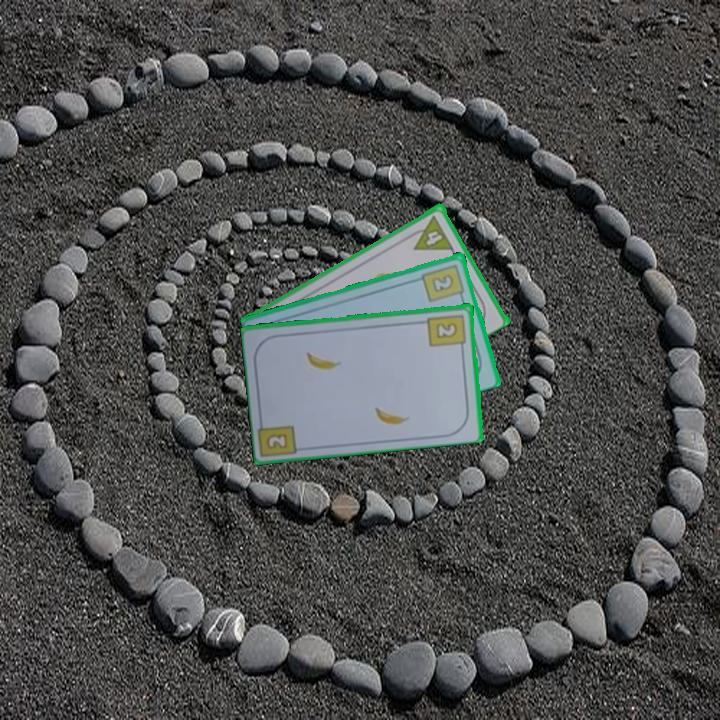2b: (419, 260, 467, 305), (425, 311, 469, 353), (265, 432, 288, 450)
4p: (413, 224, 454, 253)
